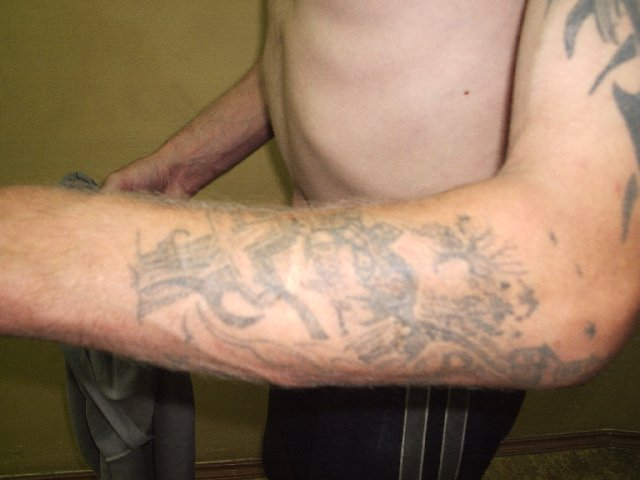tatu7_zmeya: (310, 203, 562, 384)
tatu9_krest: (118, 192, 295, 344)
